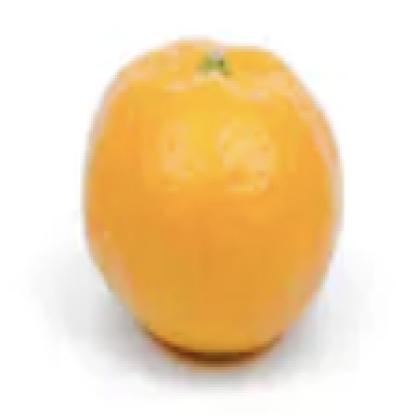fresh: (84, 39, 340, 360)
